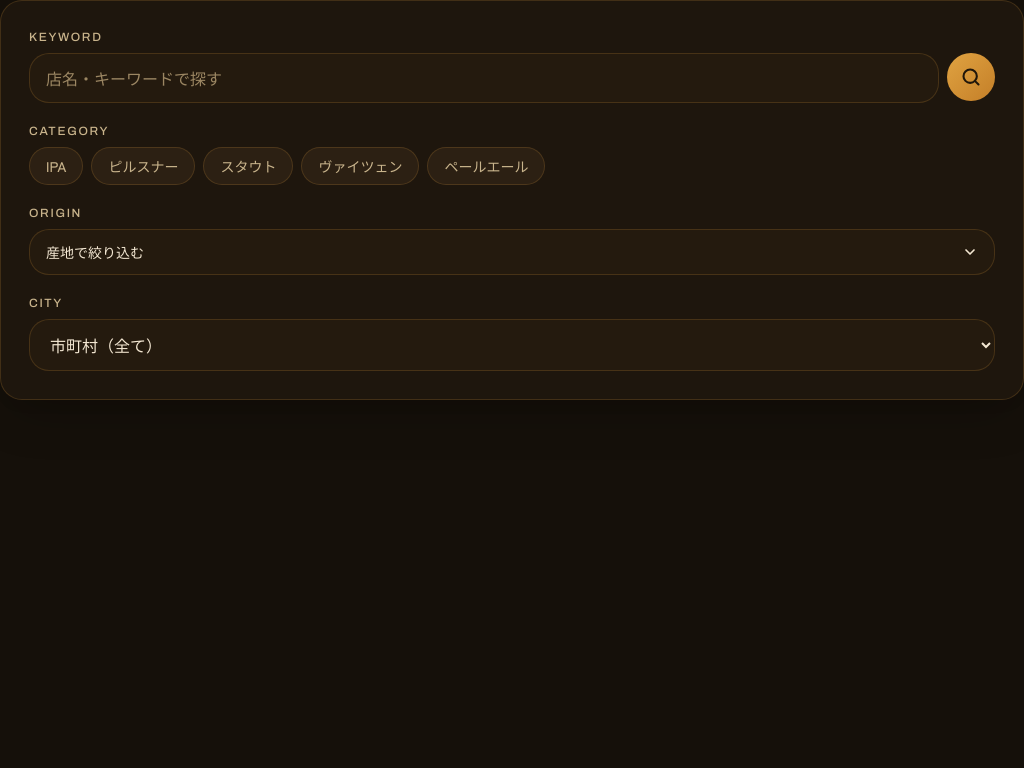
Test: SearchForm - Origin 折りたたみ › 展開 › トグルクリックで aria-expanded が true になり国別グルーピングが現れる
Click the button "産地で絞り込む" at coordinates (95, 252), box [29, 229, 995, 275]
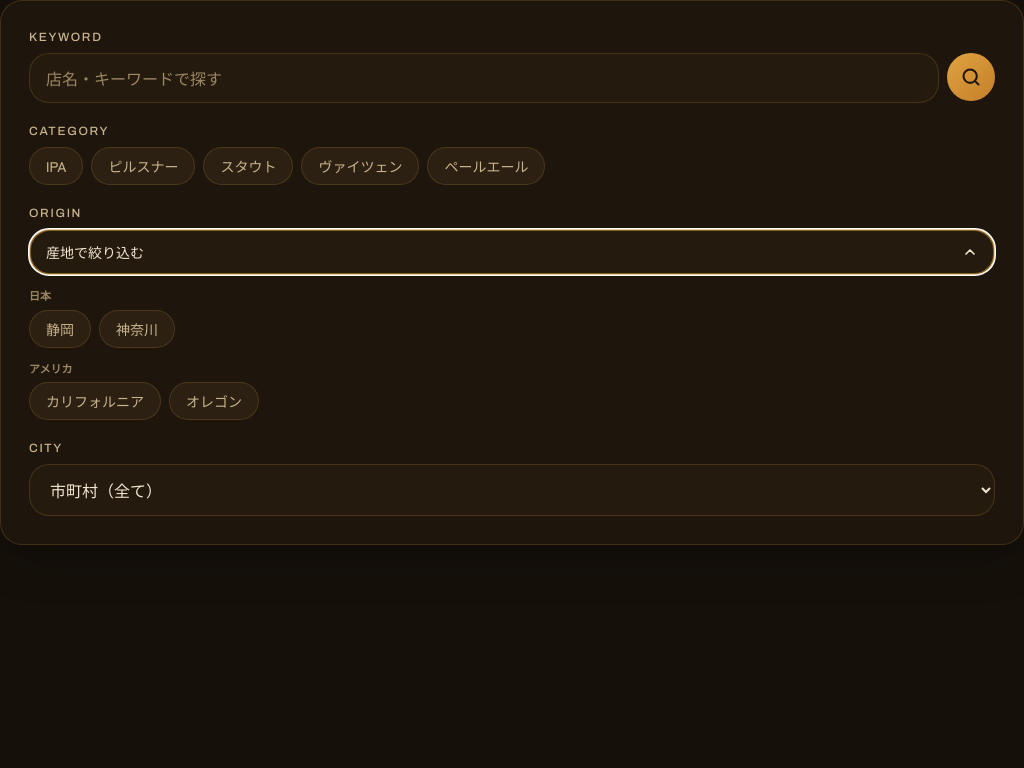
Check: the button "産地で絞り込む" is expanded, box [29, 229, 995, 275]
Check: the text "日本" is shown, box [29, 287, 51, 303]
Check: the text "アメリカ" is shown, box [29, 360, 72, 376]
